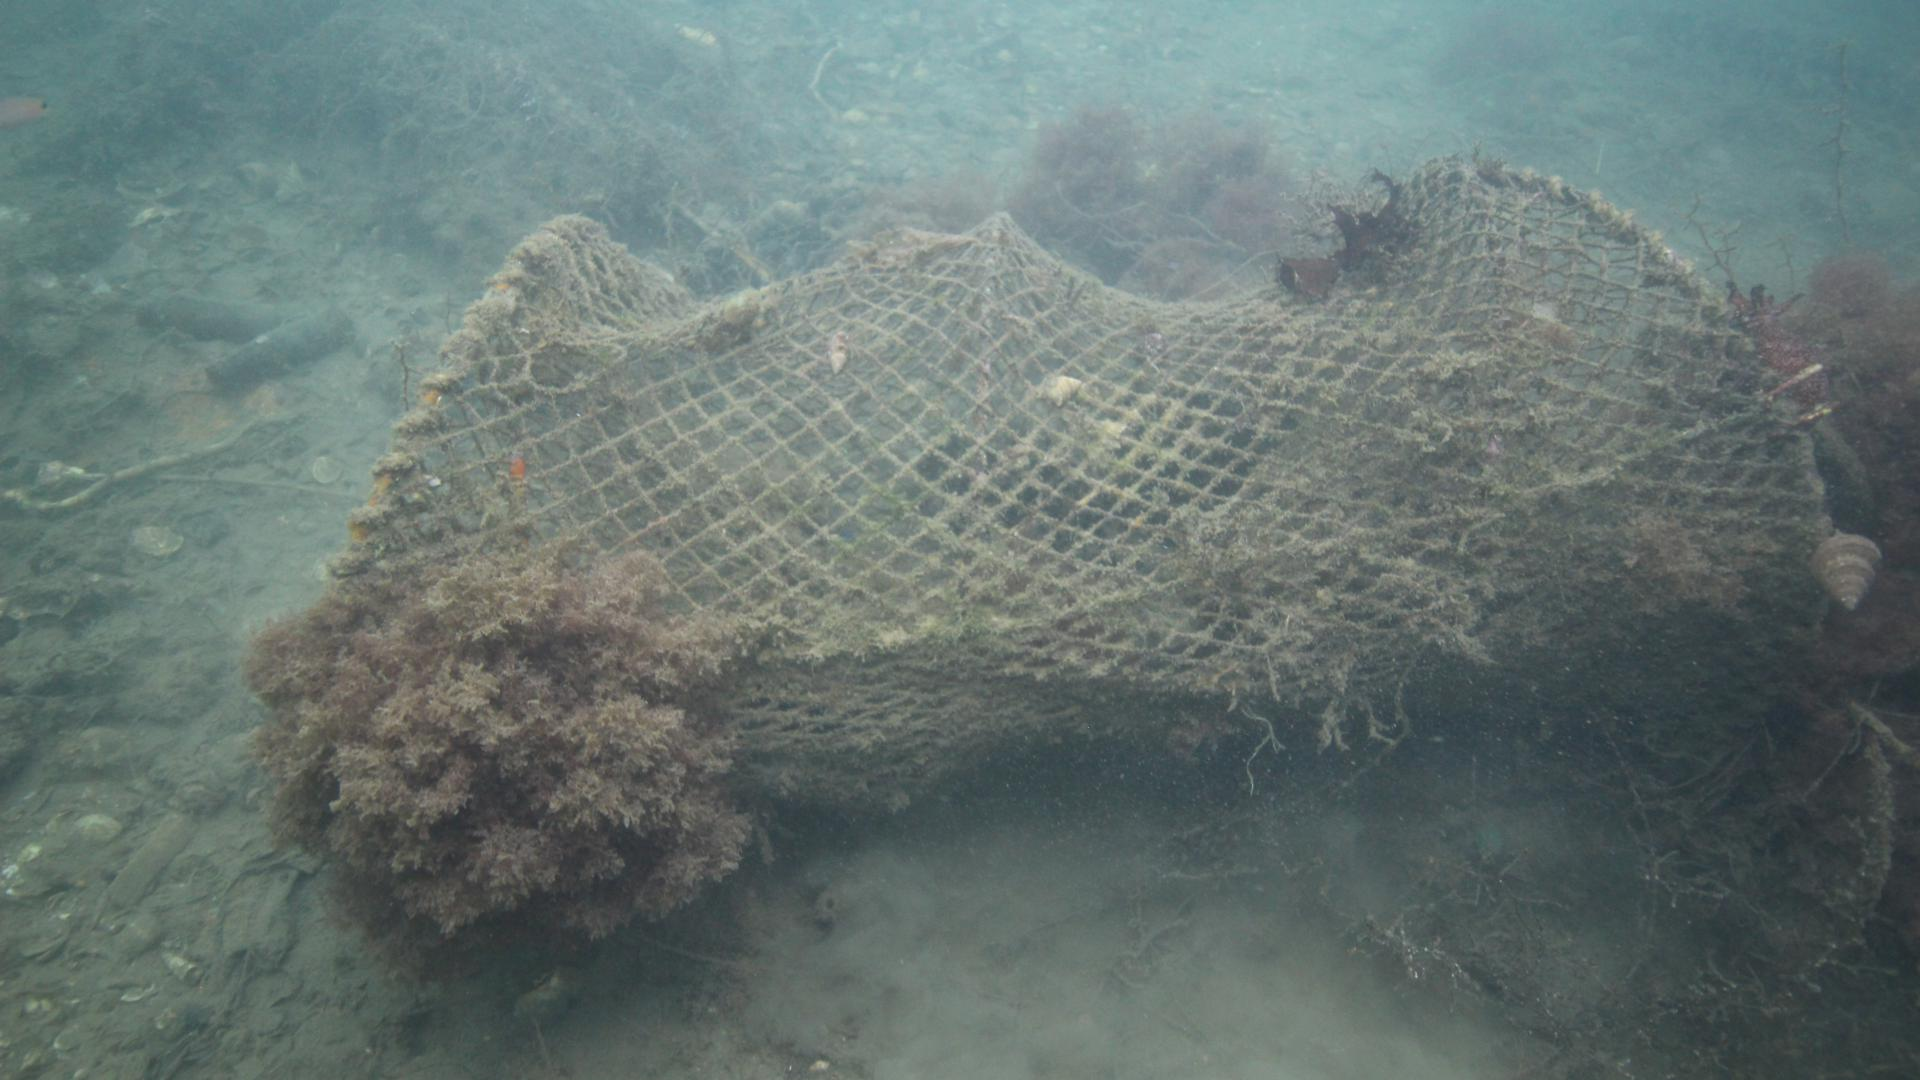spring fish trap: (310, 160, 1836, 807)
